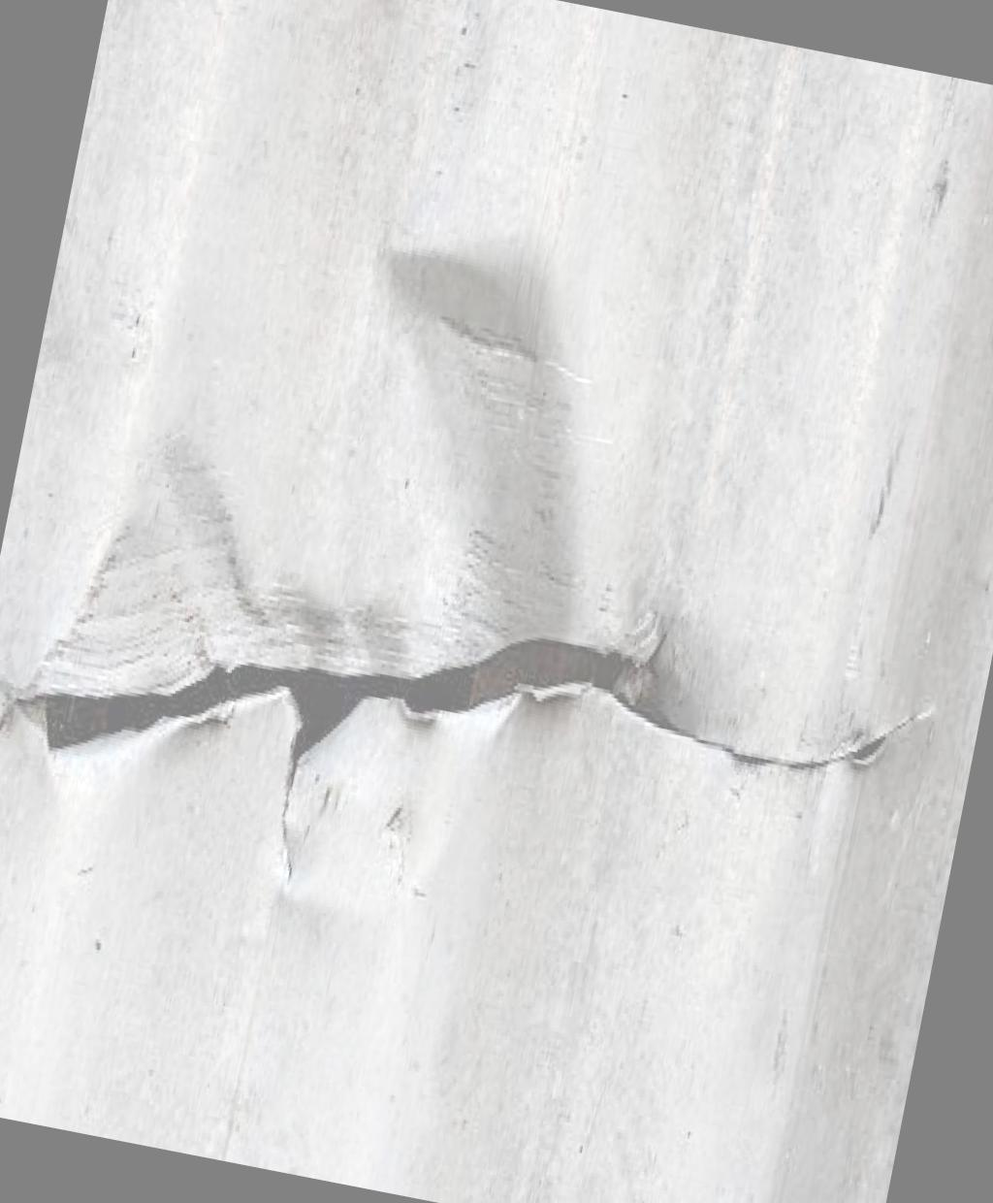crack: (0, 500, 943, 1021)
